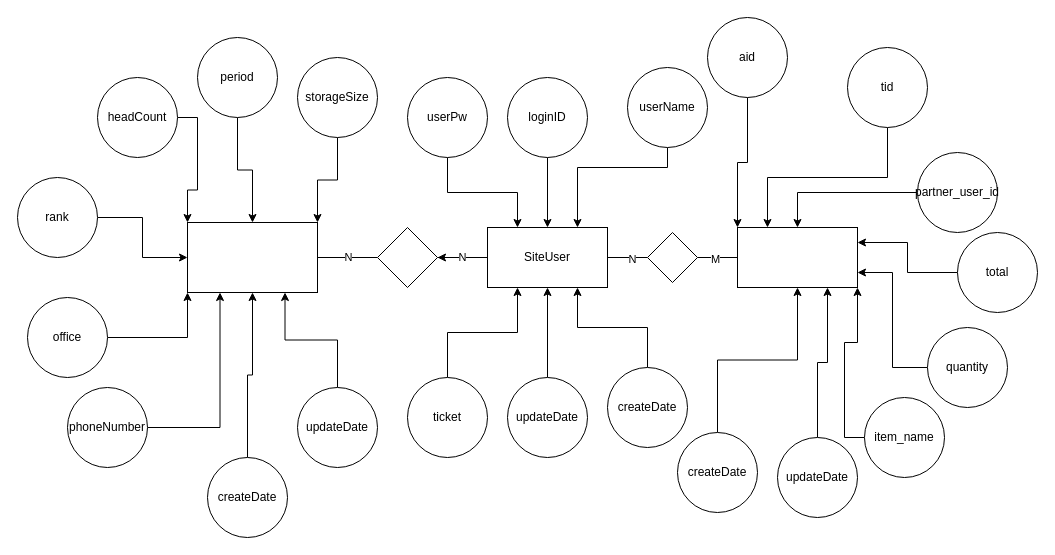
This 1055x555 diagram has some shape labels left out. The shapes that lost their labels are listed below. From the top down, each one's box as (x1, y1, x2, y2) in pixels, then its label:
(186, 222, 318, 292): Subcribe
(376, 226, 438, 288): 구독
(646, 232, 698, 282): 결제
(736, 226, 858, 288): PayRecord
